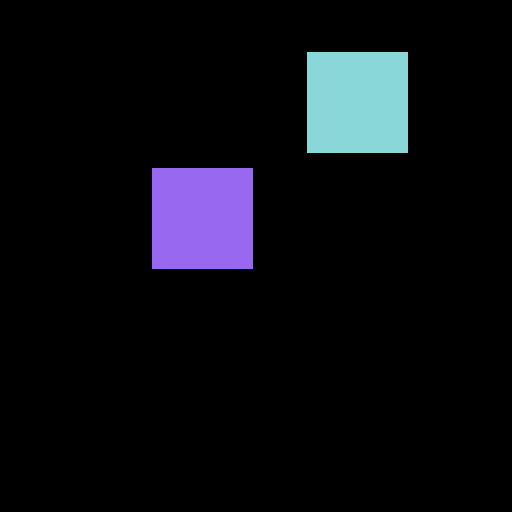square: (152, 168, 252, 268), (307, 52, 407, 152)
